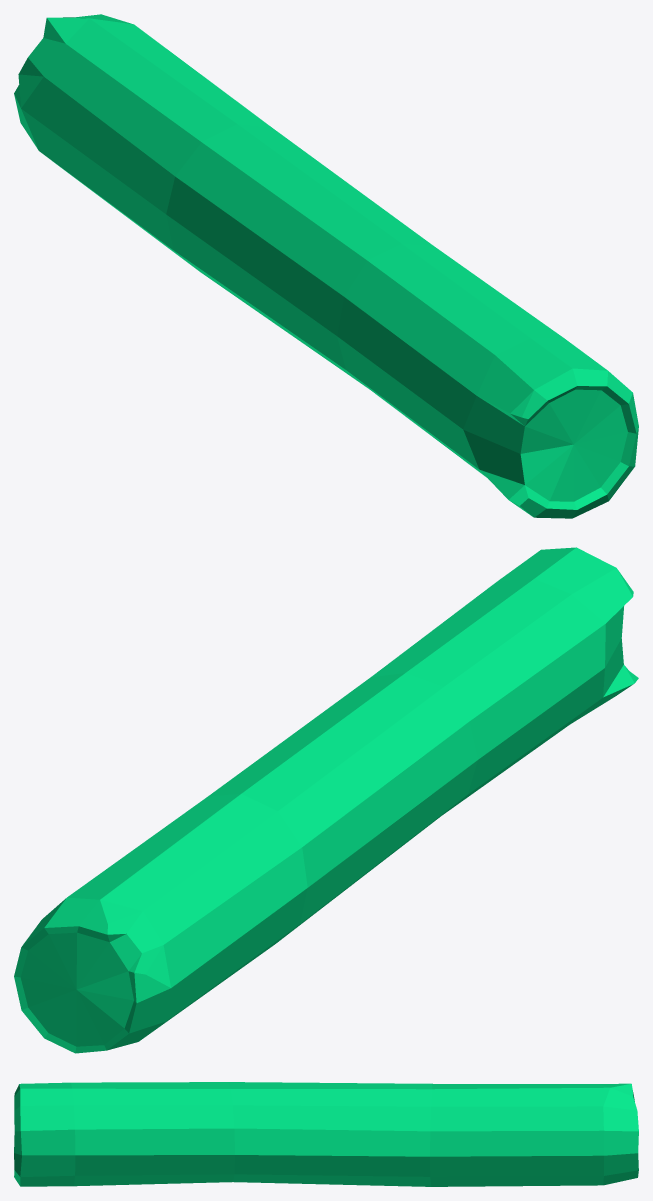
Rendered from Bole_01_Lod1.fbx.
3 renders of one model, top to bottom at view 1: azimuth 30°, elevation 25°; view 2: azimuth 150°, elevation 25°; view 3: azimuth 270°, elevation 25°, orthographic. The views are drawn at different scales.
Parts seen in each view (by area): view 1: Bole_01_Lod1; view 2: Bole_01_Lod1; view 3: Bole_01_Lod1.
Part boxes in pixels (x1=…): Bole_01_Lod1: x1=14, y1=14, x2=638, y2=518; Bole_01_Lod1: x1=14, y1=547, x2=638, y2=1053; Bole_01_Lod1: x1=14, y1=1082, x2=638, y2=1186.
Bounding box in the file's own units: 82.63 × 82.65 × 506.
